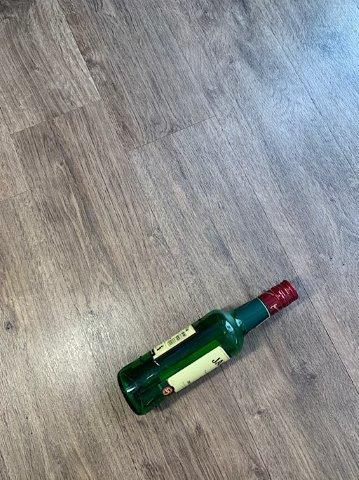botolkaca: (117, 280, 298, 415)
